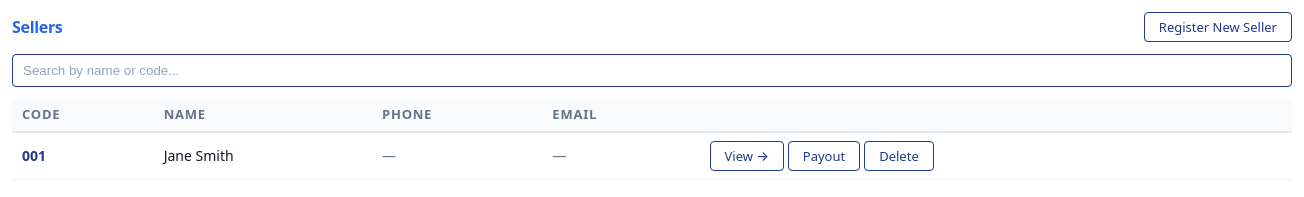
Scenario: SellerListPage › deletes an erroneous seller after confirmation
This screenshot has width=1304, height=197.
Expected: the text "Jane Smith" is shown, [154,132,372,179]
Click the button with aria-label "delete seller 001" at point(899, 156), box [864,140,934,170]
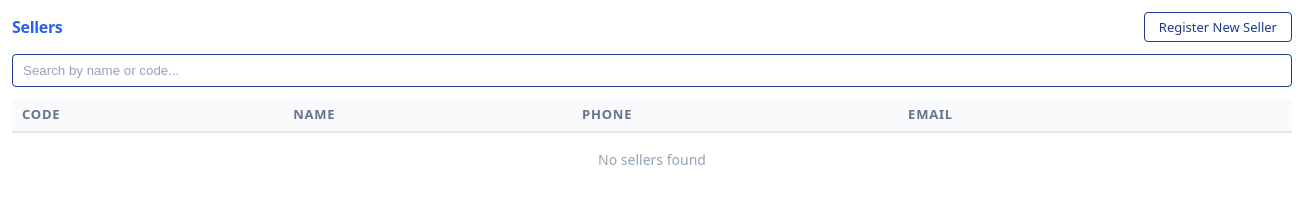
Result: the text "Jane Smith" is gone
